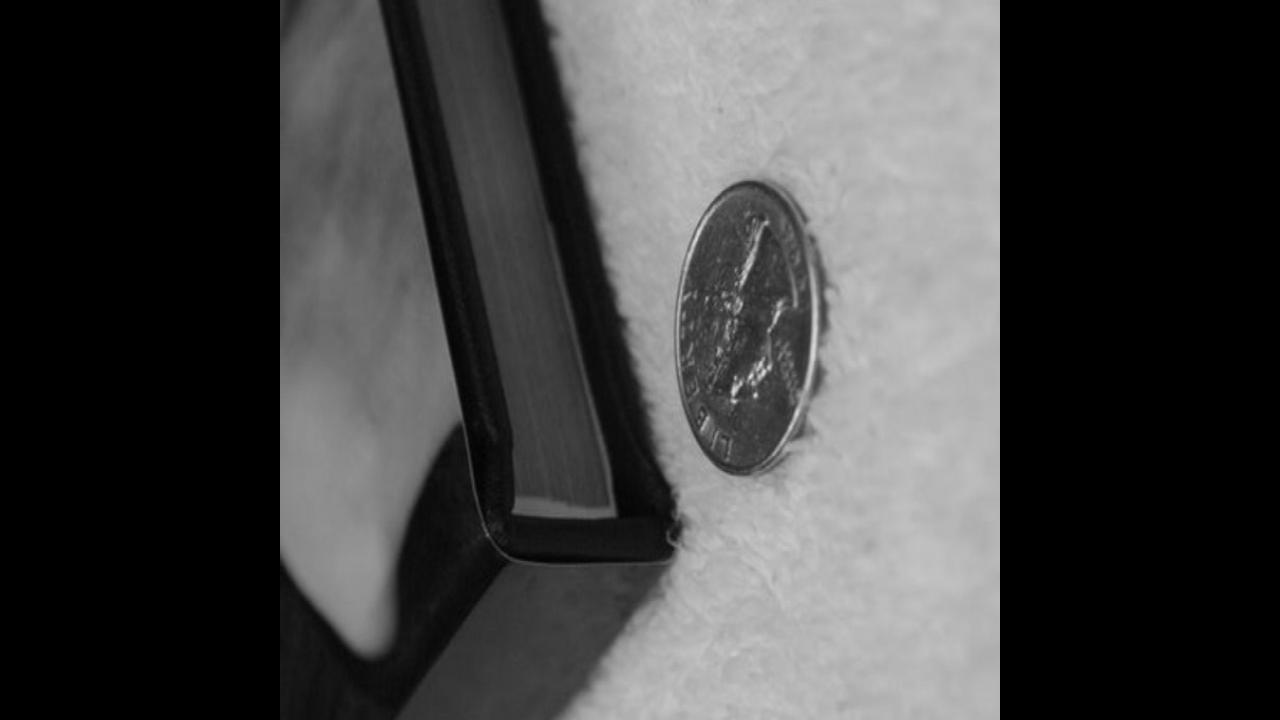coin: (670, 172, 826, 478)
